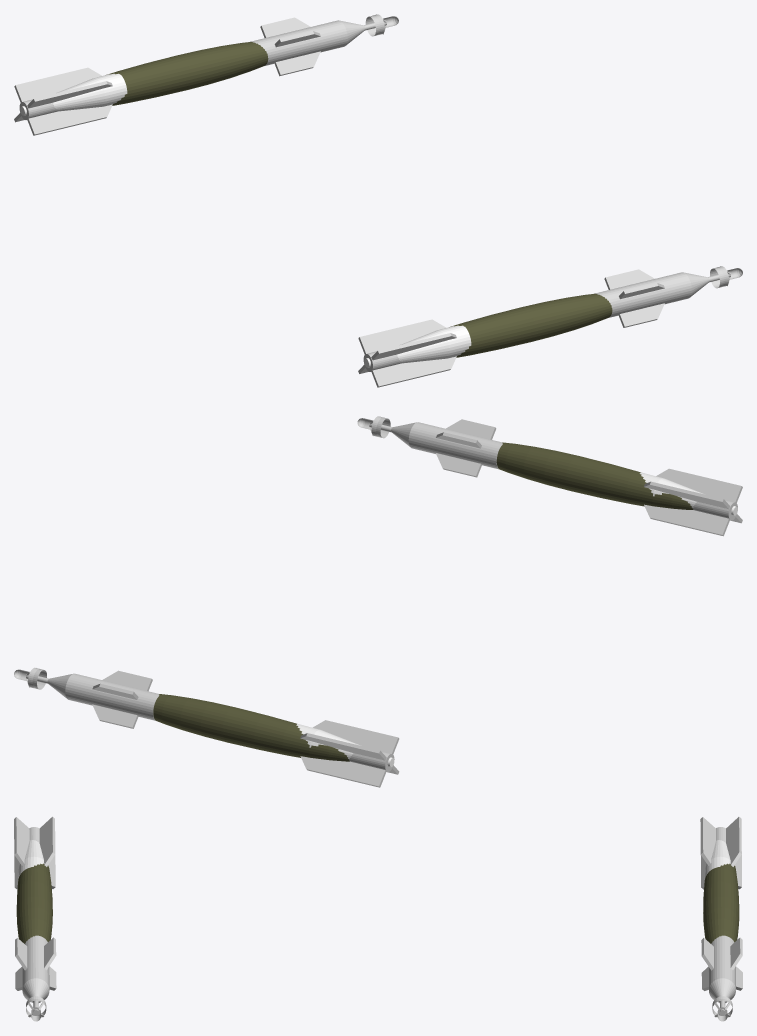
Rendered from f5fgbu1215.glb.
3 renders of one model, top to bottom at view 1: azimuth 30°, elevation 25°; view 2: azimuth 150°, elevation 25°; view 3: azimuth 270°, elevation 25°, orthographic.
Parts seen in each view (by area): view 1: 円柱.006, 円柱.005; view 2: 円柱.005, 円柱.006; view 3: 円柱.006, 円柱.005.
Boxes of the visible parts, <box> form: 円柱.006: <box>358,266,742,387</box>; 円柱.005: <box>14,14,398,135</box>; 円柱.005: <box>14,667,399,787</box>; 円柱.006: <box>357,416,742,536</box>; 円柱.006: <box>14,816,56,1021</box>; 円柱.005: <box>700,817,742,1021</box>.
Size of the model in its own units: 3.69 by 0.3609 by 6.19.
Materials: 2 (1 with a texture image).
